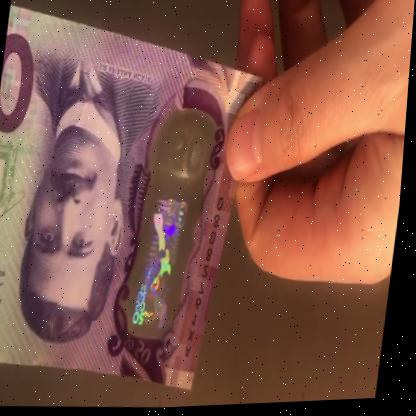50F: (134, 126, 213, 332)
